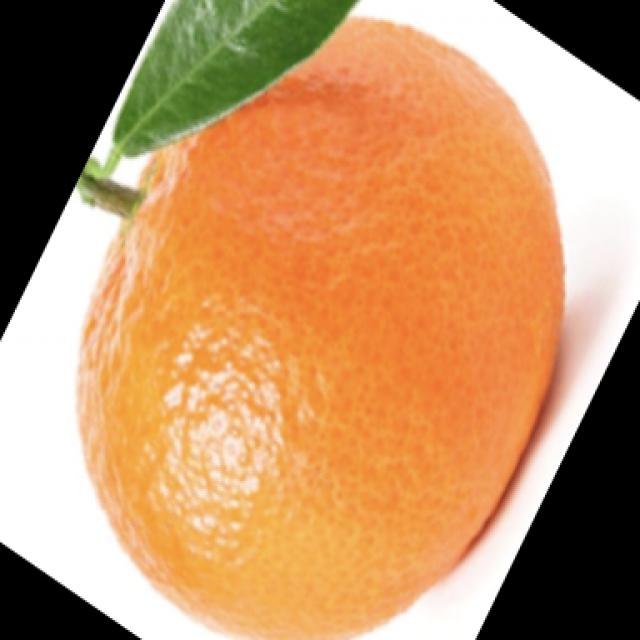fresh: (59, 0, 579, 636)
